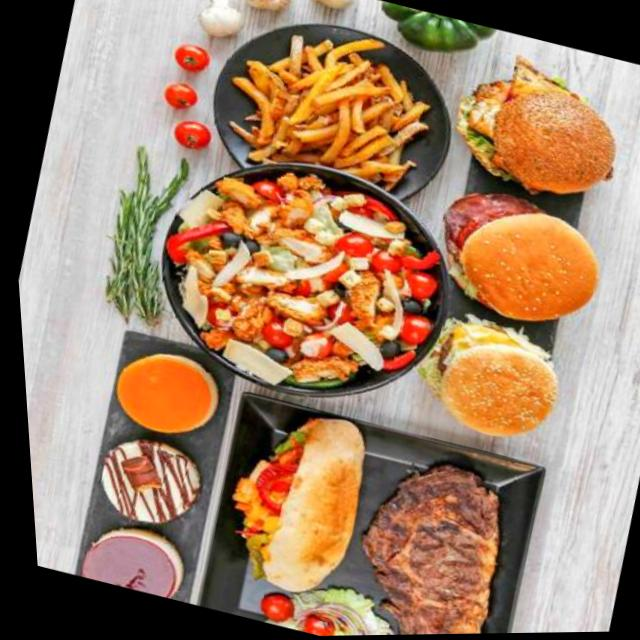burger: (415, 176, 615, 340), (440, 49, 633, 210), (402, 305, 571, 452)
